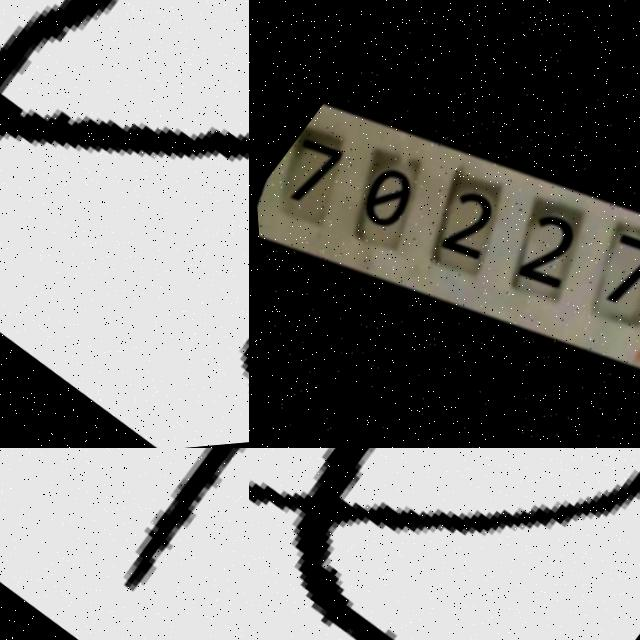0: (319, 132, 445, 263)
2: (472, 180, 613, 326), (398, 158, 527, 292)
7: (249, 109, 373, 239), (556, 206, 640, 347)
Q: (249, 448, 640, 640)
U: (0, 0, 249, 448)
Y: (0, 448, 249, 640)
